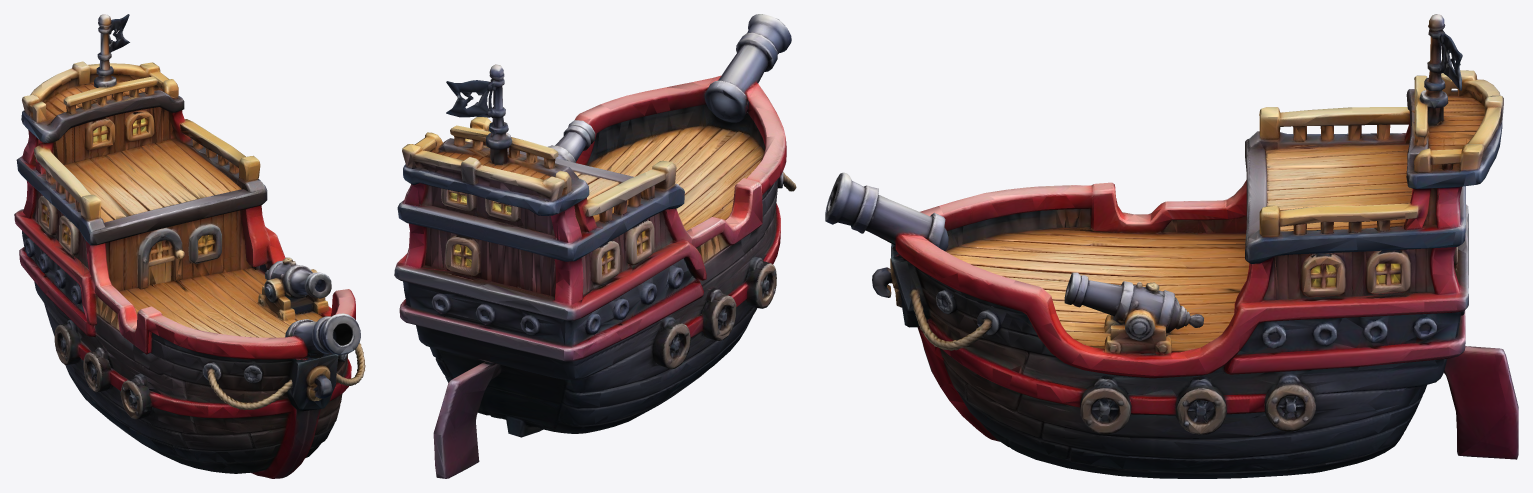
File: dusman_gemi.glb
3 renders of one model, left to right at view 1: azimuth 30°, elevation 25°; view 2: azimuth 150°, elevation 25°; view 3: azimuth 270°, elevation 25°, orthographic. The views are drawn at different scales.
Visible parts, largest first — view 1: tripo_node_702a799c-d22d-4f86-a80b-c1da7a72ba21; view 2: tripo_node_702a799c-d22d-4f86-a80b-c1da7a72ba21; view 3: tripo_node_702a799c-d22d-4f86-a80b-c1da7a72ba21.
Part boxes in pixels (box(x1,y1,x2,y2)): tripo_node_702a799c-d22d-4f86-a80b-c1da7a72ba21: box(14, 14, 365, 478); tripo_node_702a799c-d22d-4f86-a80b-c1da7a72ba21: box(394, 14, 796, 478); tripo_node_702a799c-d22d-4f86-a80b-c1da7a72ba21: box(825, 14, 1518, 478).
Size of the model in its own units: 0.4408 by 0.6872 by 0.9787.
1 material, 1 textured.
